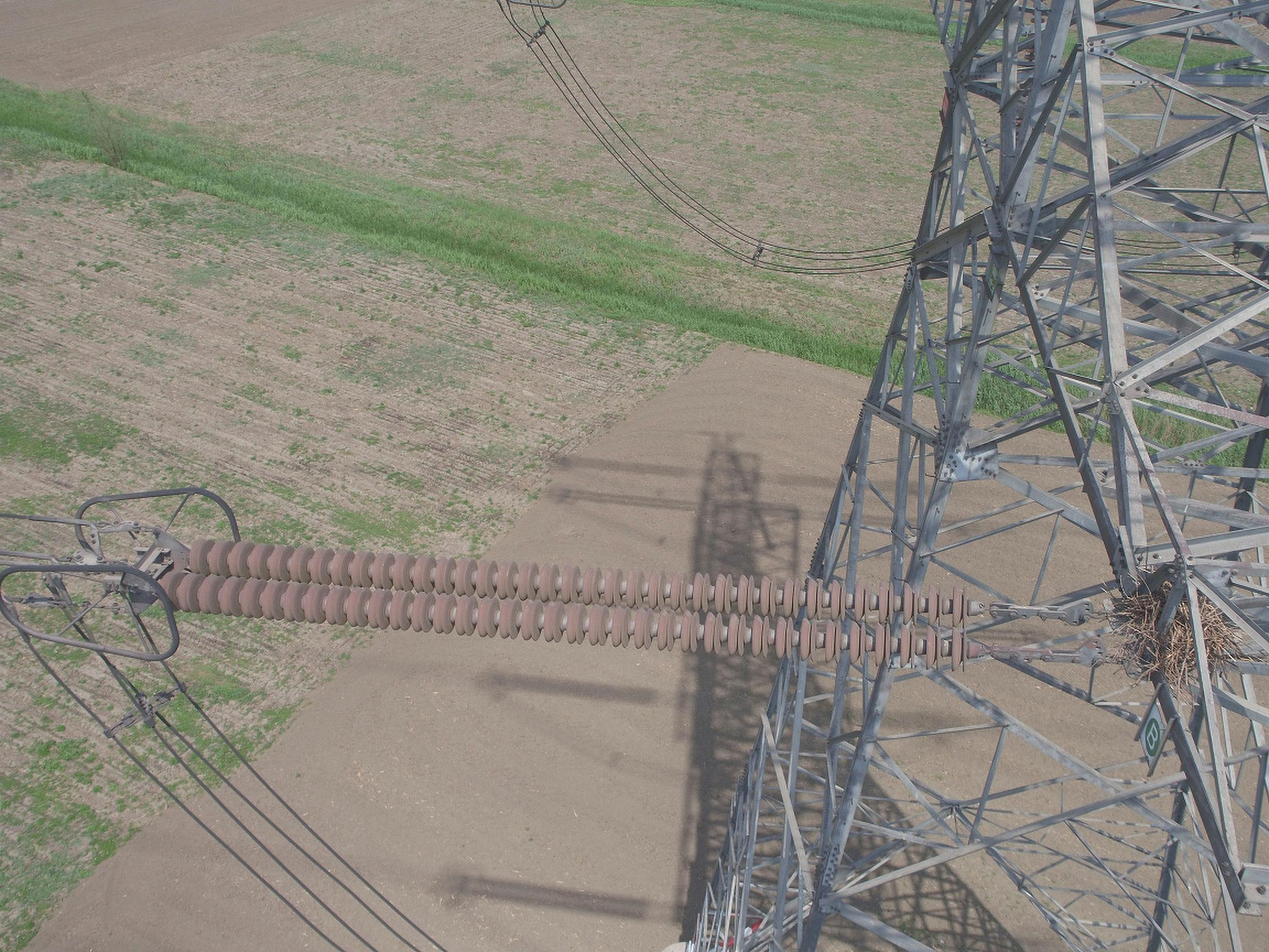insulator: (150, 534, 977, 679)
